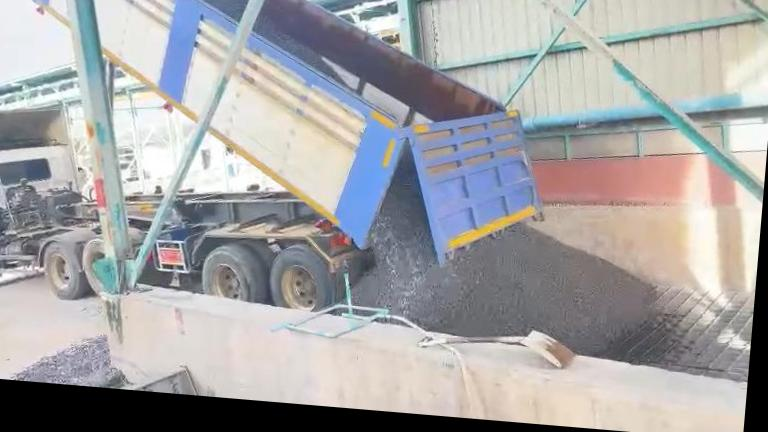gravel: (353, 161, 656, 355), (255, 8, 345, 84), (12, 335, 125, 387), (134, 0, 248, 21)
